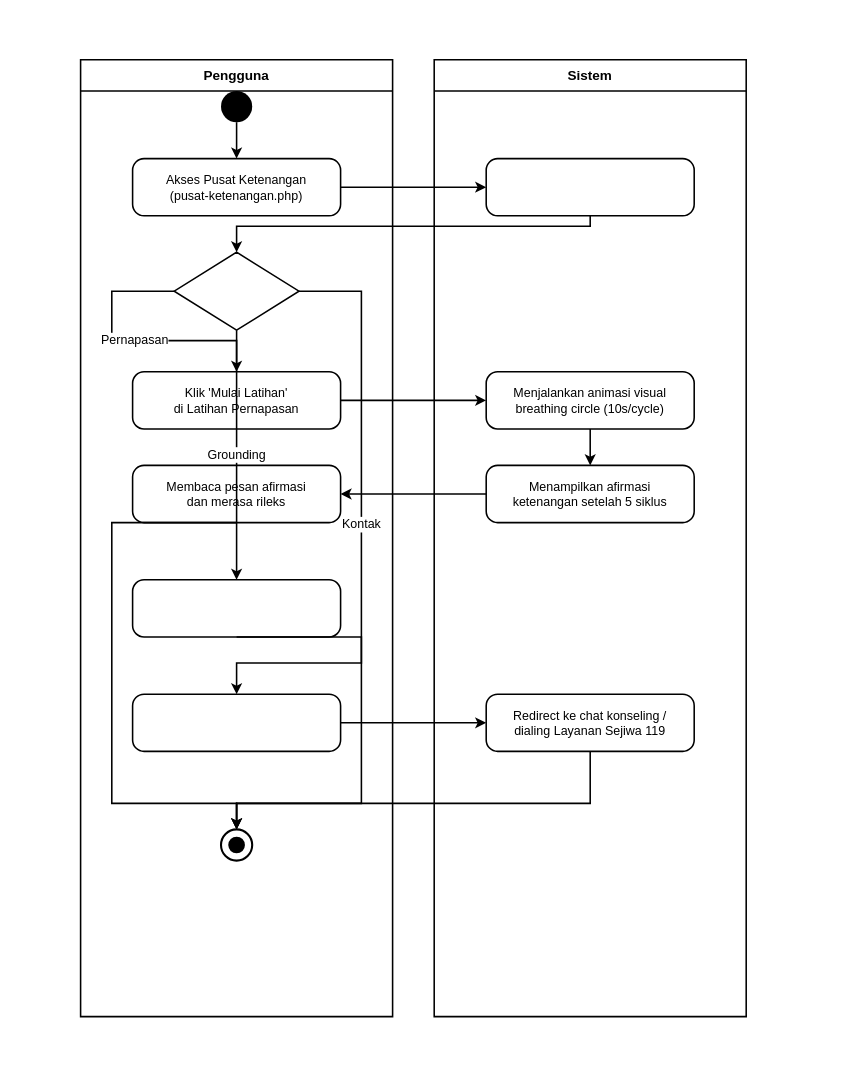
Some shapes in this 867 by 1075 pixel diagram are drawn without their labels. Here are the shapes that lost their labels. From the top down, the centre of each, then its label:
point 590,186: Menampilkan menu relaksasi dan visual bento grid
point 236,291: Memilih Latihan?
point 236,608: Mengikuti teknik grounding indrawi 5-4-3-2-1 di layar
point 236,722: Mengakses Layanan Kontak Darurat (Butuh Teman Bicara?)
